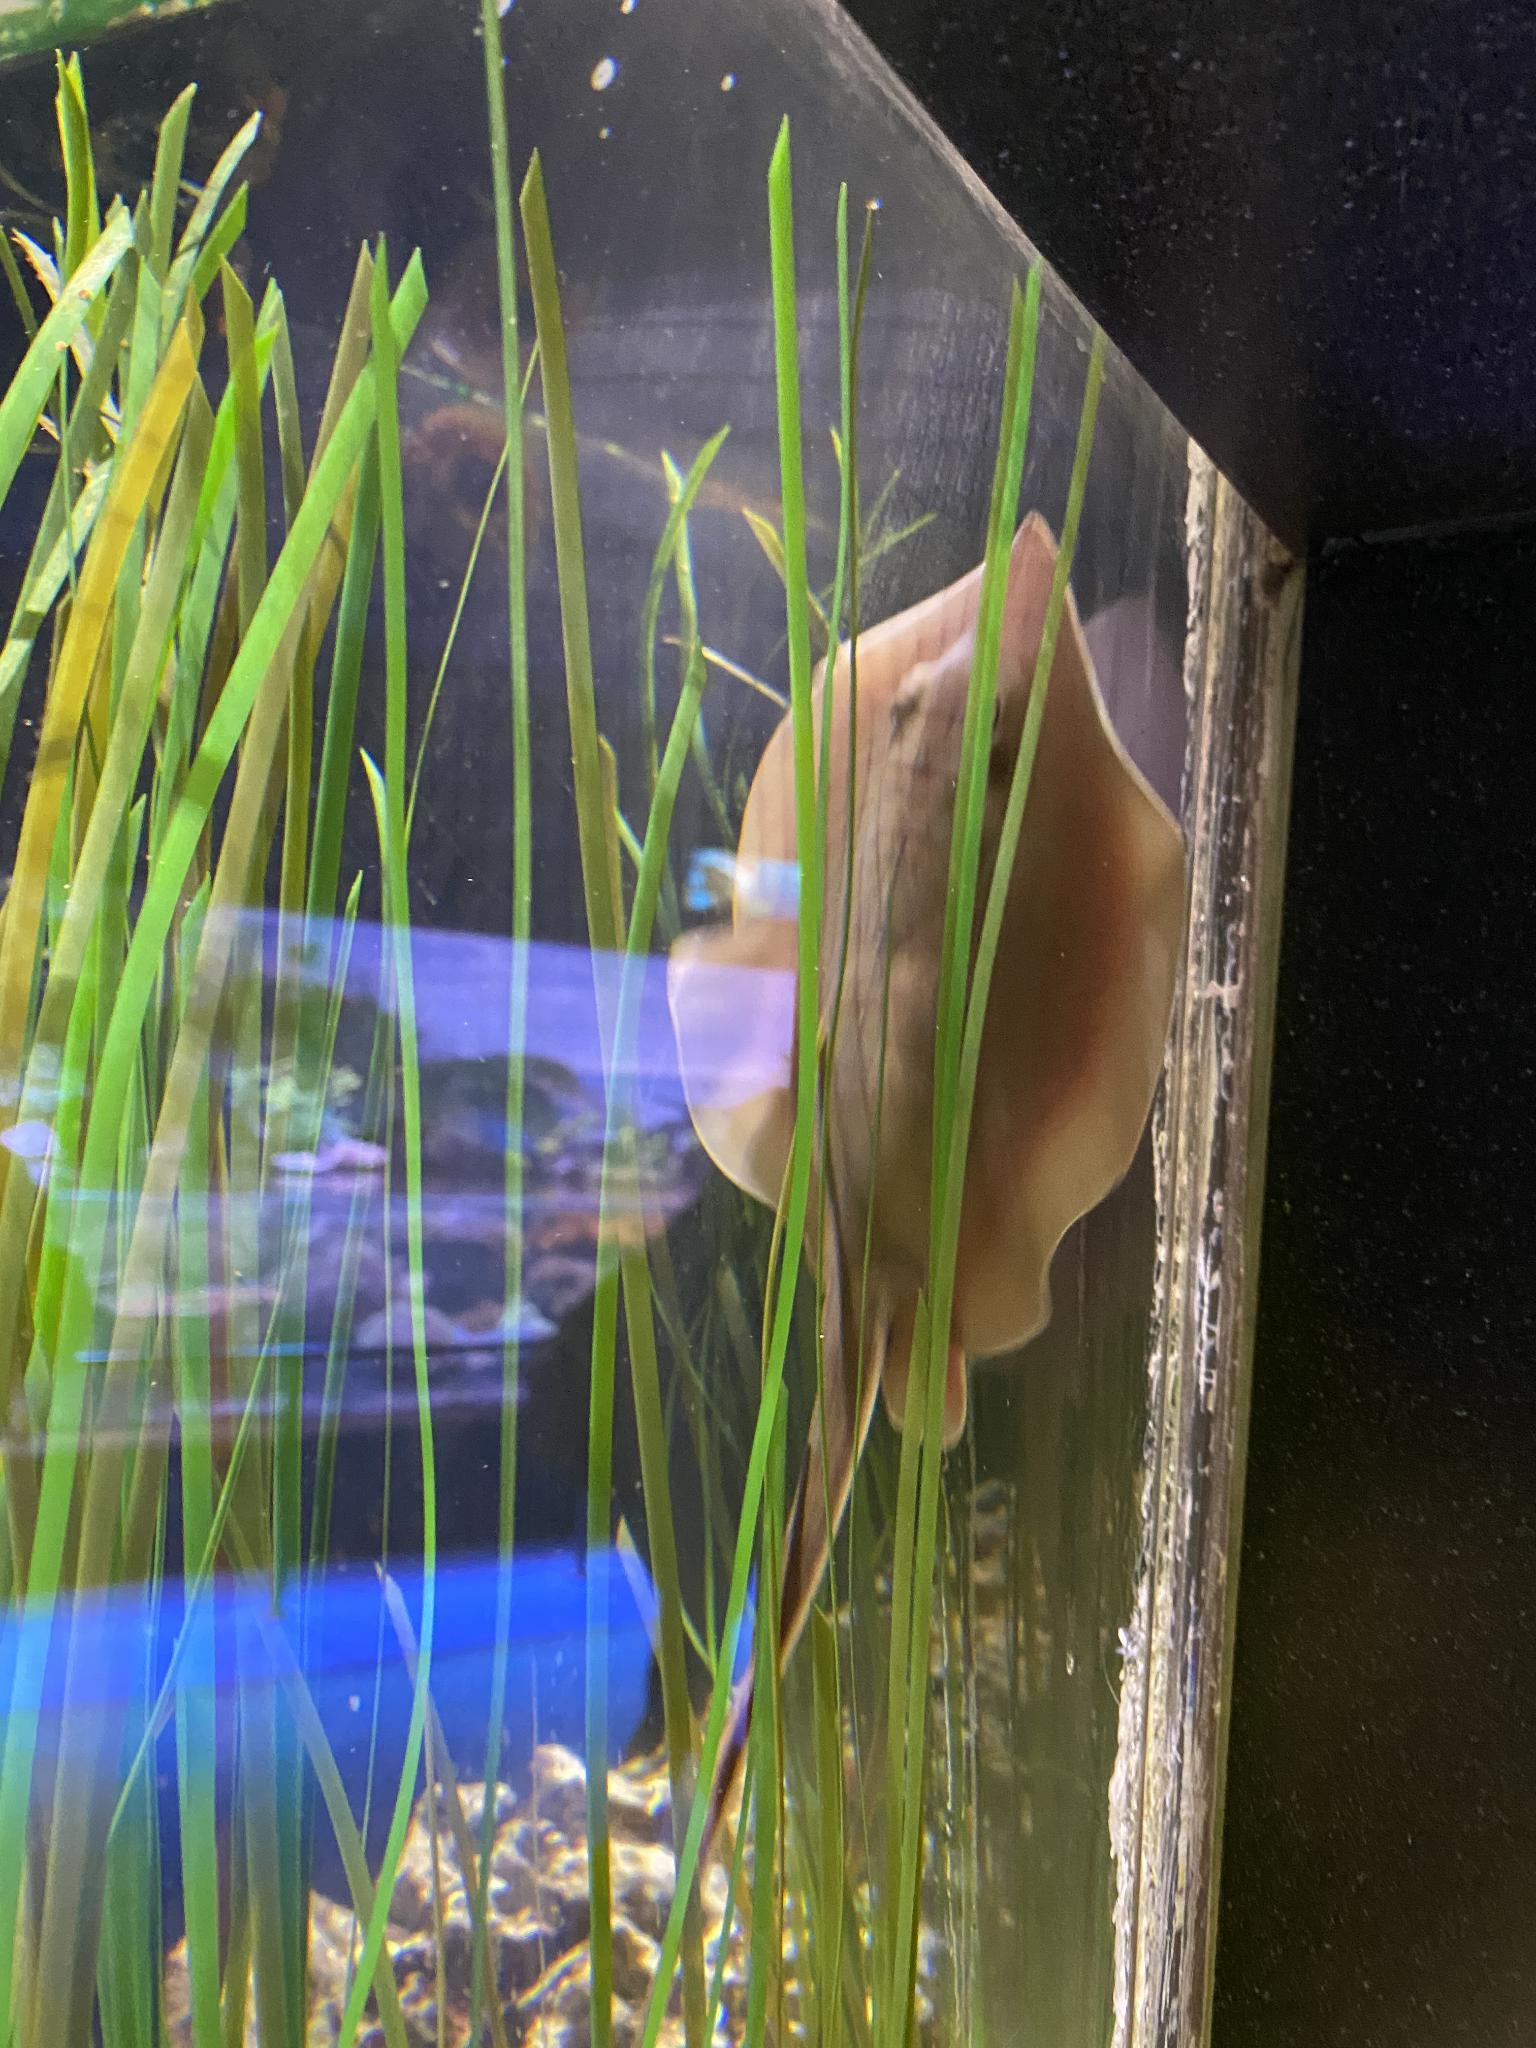stingray: (666, 511, 1196, 1451)
